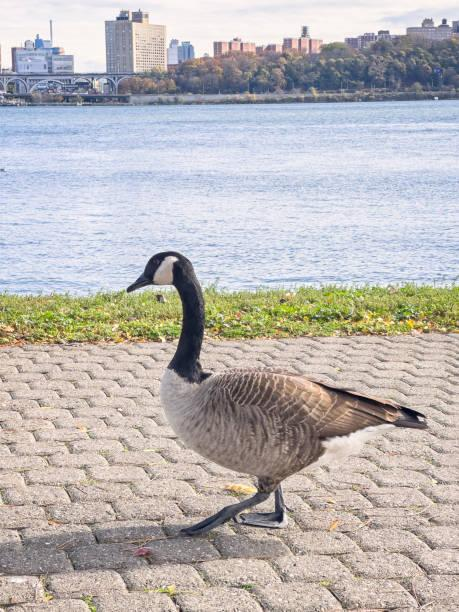Canadian-Goose: (128, 247, 429, 545)
